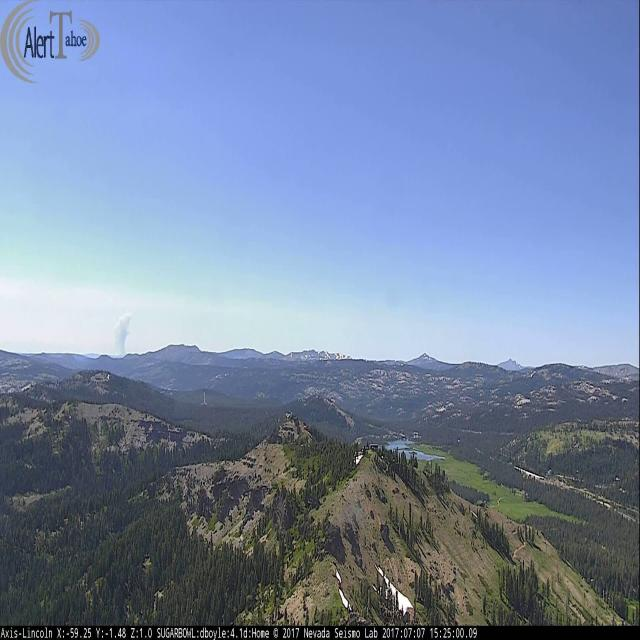smoke: (112, 308, 134, 356)
